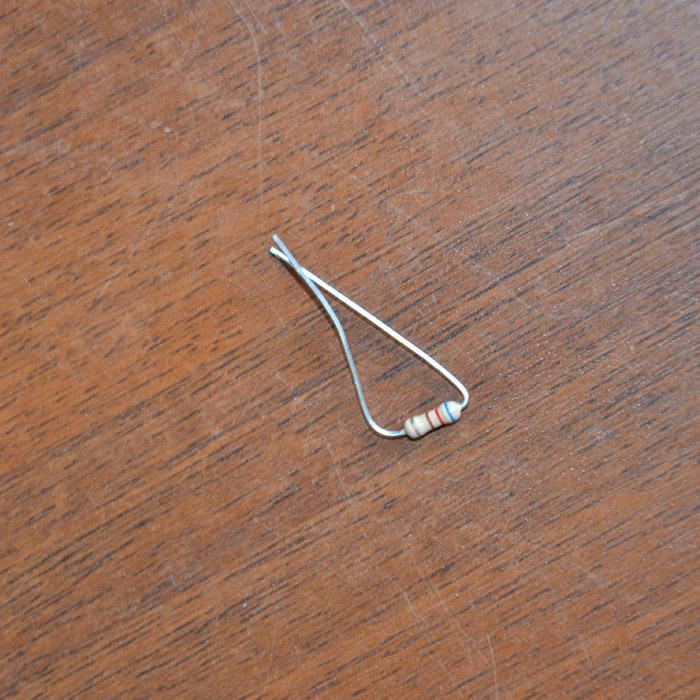resistor: (404, 398, 461, 438)
